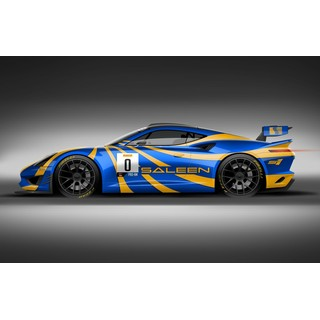car: (14, 121, 305, 198)
